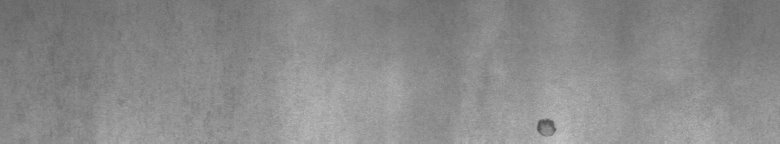fi: (532, 112, 563, 136)
